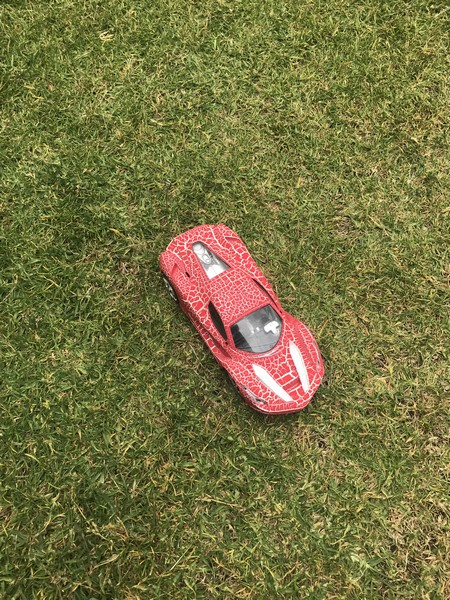RC: (153, 221, 326, 419)
